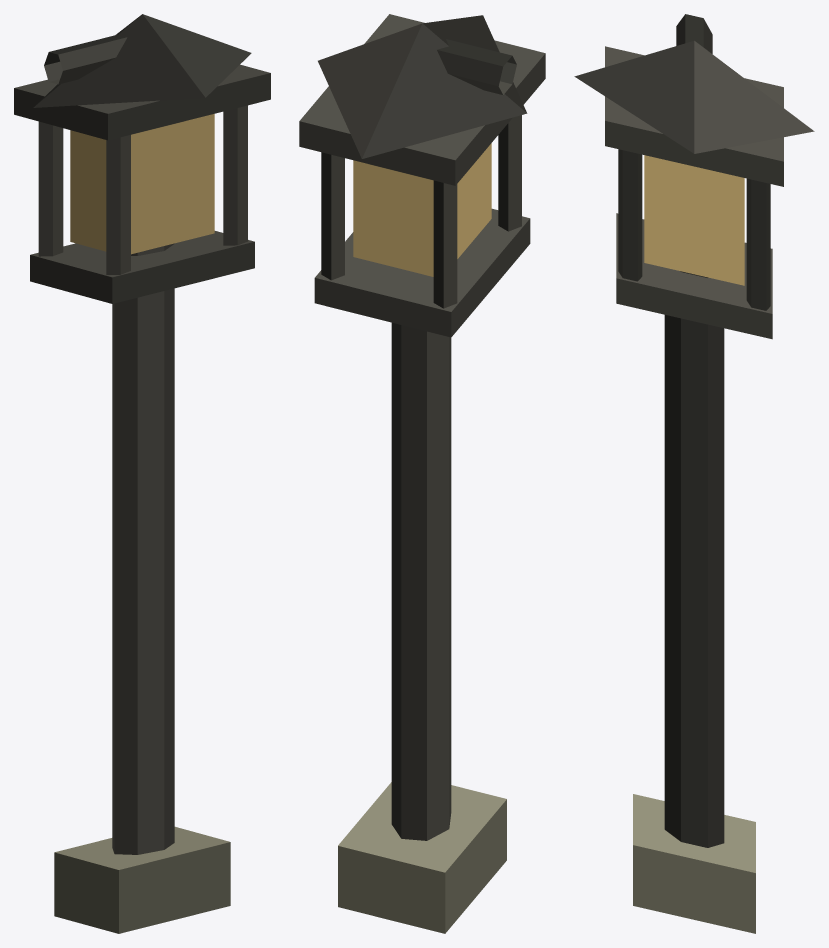
The picture shows the model from 3 angles, left to right: view 1: azimuth 30°, elevation 25°; view 2: azimuth 150°, elevation 25°; view 3: azimuth 270°, elevation 25°; orthographic projection. The views are drawn at different scales.
Parts seen in each view (by area): view 1: f13537af0eaf4a6d0b9d28aa58a7838f68b8144b91d776718709cbdcad2a; view 2: f13537af0eaf4a6d0b9d28aa58a7838f68b8144b91d776718709cbdcad2a; view 3: f13537af0eaf4a6d0b9d28aa58a7838f68b8144b91d776718709cbdcad2a.
Part boxes in pixels (x1=…): f13537af0eaf4a6d0b9d28aa58a7838f68b8144b91d776718709cbdcad2a: x1=14, y1=14, x2=270, y2=933; f13537af0eaf4a6d0b9d28aa58a7838f68b8144b91d776718709cbdcad2a: x1=299, y1=14, x2=545, y2=933; f13537af0eaf4a6d0b9d28aa58a7838f68b8144b91d776718709cbdcad2a: x1=574, y1=14, x2=814, y2=933.
Bounding box in the file's own units: 0.86 × 3.43 × 0.86.
Materials: 2 (1 with a texture image).
